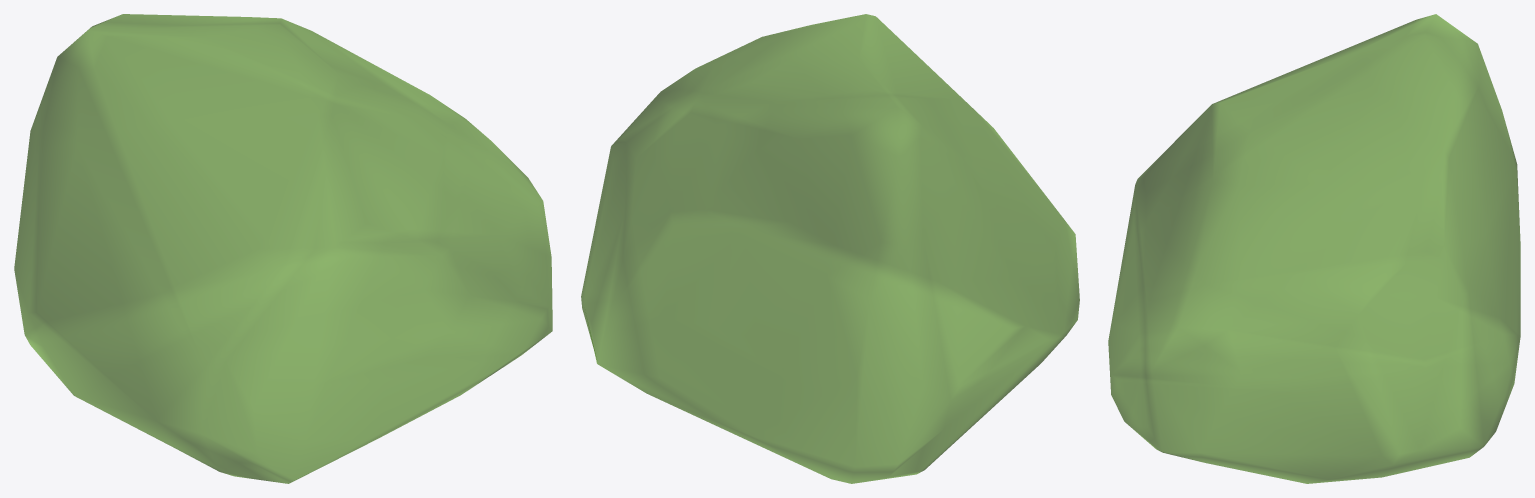
File: SMALL_desert_rock_01_Unity_colliders.fbx
3 views of the same model, side by side, from view 1: azimuth 30°, elevation 25°; view 2: azimuth 150°, elevation 25°; view 3: azimuth 270°, elevation 25° (orthographic).
Visible parts, largest first — view 1: SMALL_desert_rock_01_collider_01; view 2: SMALL_desert_rock_01_collider_01; view 3: SMALL_desert_rock_01_collider_01.
Boxes of the visible parts, x1,y1,x2,y2 form: SMALL_desert_rock_01_collider_01: (14,14,552,483); SMALL_desert_rock_01_collider_01: (581,14,1079,483); SMALL_desert_rock_01_collider_01: (1108,14,1520,483).
Size of the model in its own units: 34.1 by 29.75 by 30.66.
